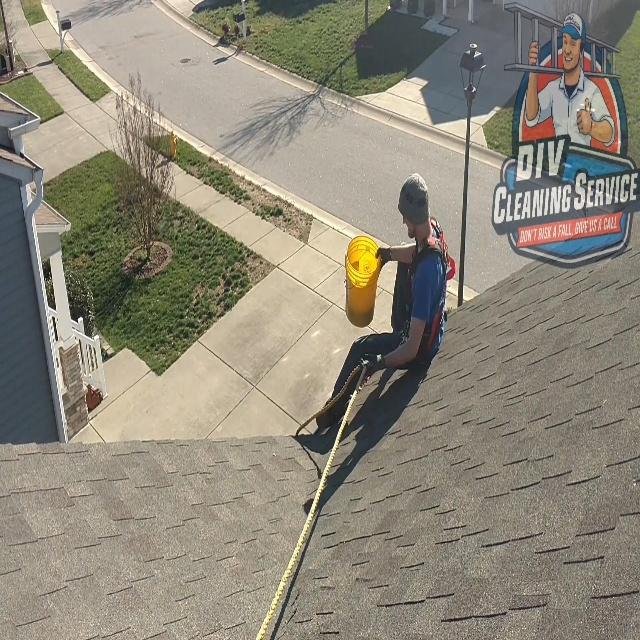Arnes_seguridad: (391, 220, 456, 374)
